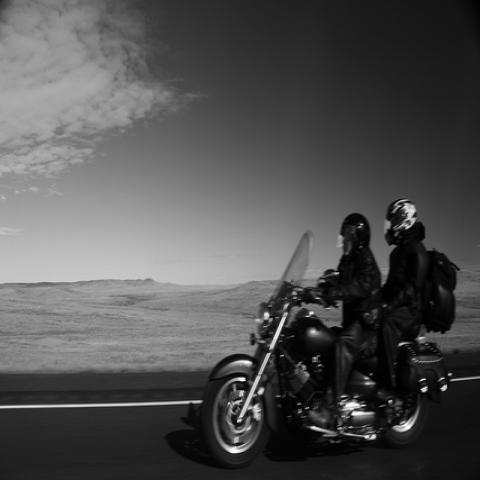motorcycle: (200, 226, 451, 464)
